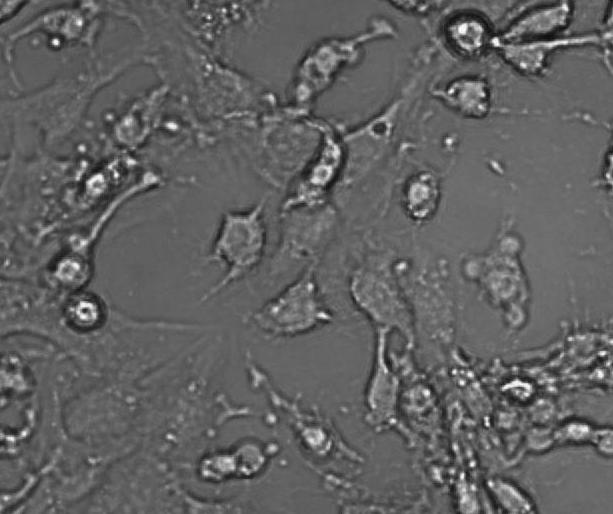Dead: (486, 37, 609, 74), (108, 93, 178, 145), (18, 6, 92, 53), (438, 6, 497, 61), (303, 120, 349, 187), (435, 75, 496, 121), (287, 413, 340, 461), (480, 470, 537, 514), (55, 288, 109, 334), (479, 261, 531, 308), (399, 381, 445, 434), (401, 170, 443, 224), (47, 248, 94, 290), (230, 440, 276, 480), (459, 378, 497, 418), (200, 450, 241, 482), (61, 231, 99, 259), (558, 417, 596, 444), (493, 229, 528, 258), (500, 378, 538, 404), (496, 402, 530, 430), (501, 301, 532, 329), (459, 250, 486, 282), (525, 427, 558, 453), (82, 172, 109, 199), (500, 428, 526, 454), (534, 400, 559, 422)
